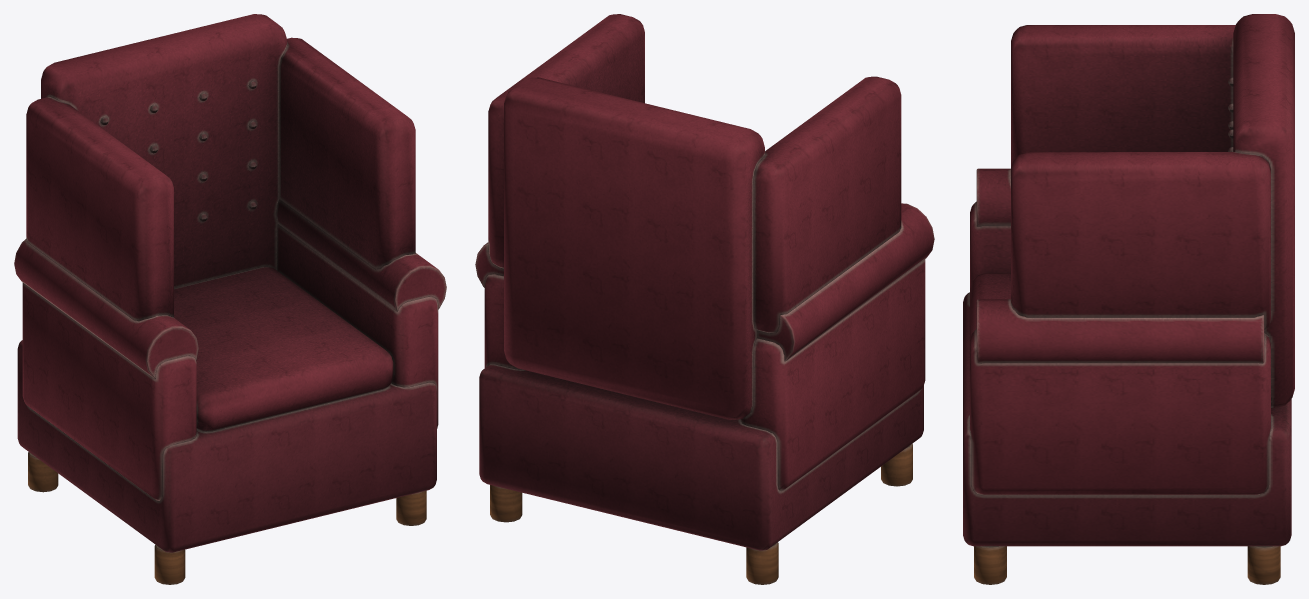
File: Armchair.fbx
3 views of the same model, side by side, from view 1: azimuth 30°, elevation 25°; view 2: azimuth 150°, elevation 25°; view 3: azimuth 270°, elevation 25° (orthographic). The views are drawn at different scales.
Visible parts, largest first — view 1: Armchair; view 2: Armchair; view 3: Armchair.
Part boxes in pixels (<box>): Armchair: <box>14,14,446,584</box>; Armchair: <box>475,14,934,584</box>; Armchair: <box>963,14,1294,584</box>.
Size of the model in its own units: 274 by 360 by 243.
